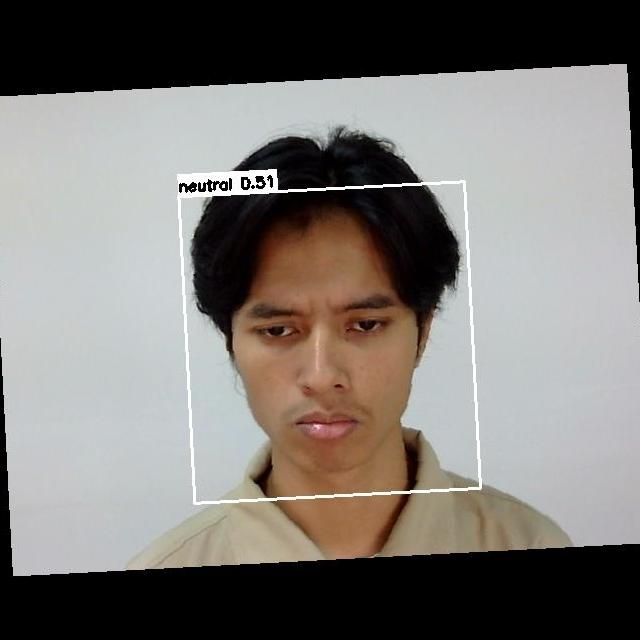Sad: (218, 272, 431, 482)
